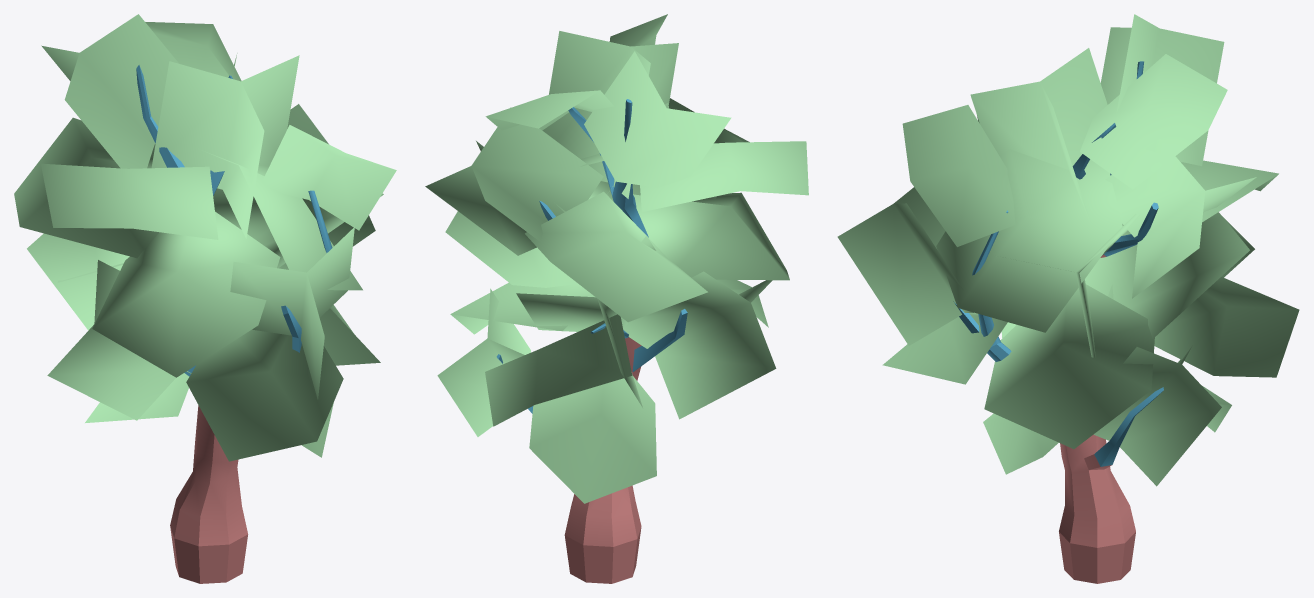
Rendered from treeB_01.fbx.
The picture shows the model from 3 angles, left to right: view 1: azimuth 30°, elevation 25°; view 2: azimuth 150°, elevation 25°; view 3: azimuth 270°, elevation 25°; orthographic projection. The views are drawn at different scales.
Visible parts, largest first — view 1: treeB_combined; view 2: treeB_combined; view 3: treeB_combined.
Boxes of the visible parts, x1,y1,x2,y2 form: treeB_combined: (14,14,396,583); treeB_combined: (425,14,808,583); treeB_combined: (837,14,1299,583).
Size of the model in its own units: 283 by 434 by 342.
